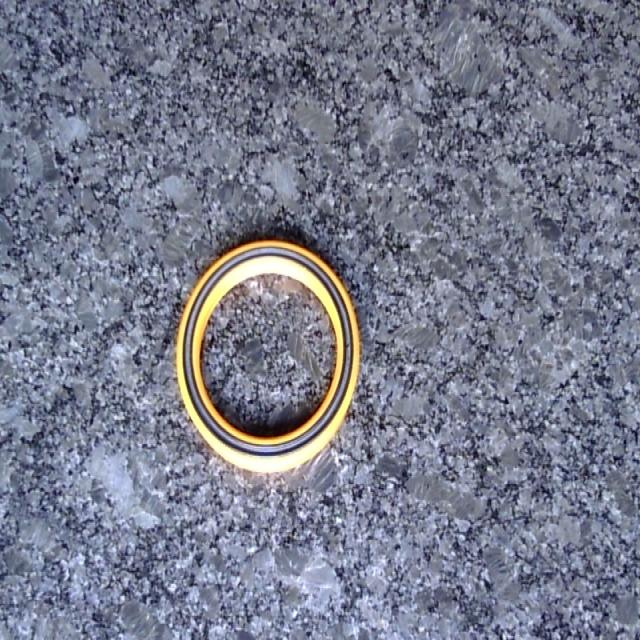orange-LW-ring: (178, 240, 360, 473)
